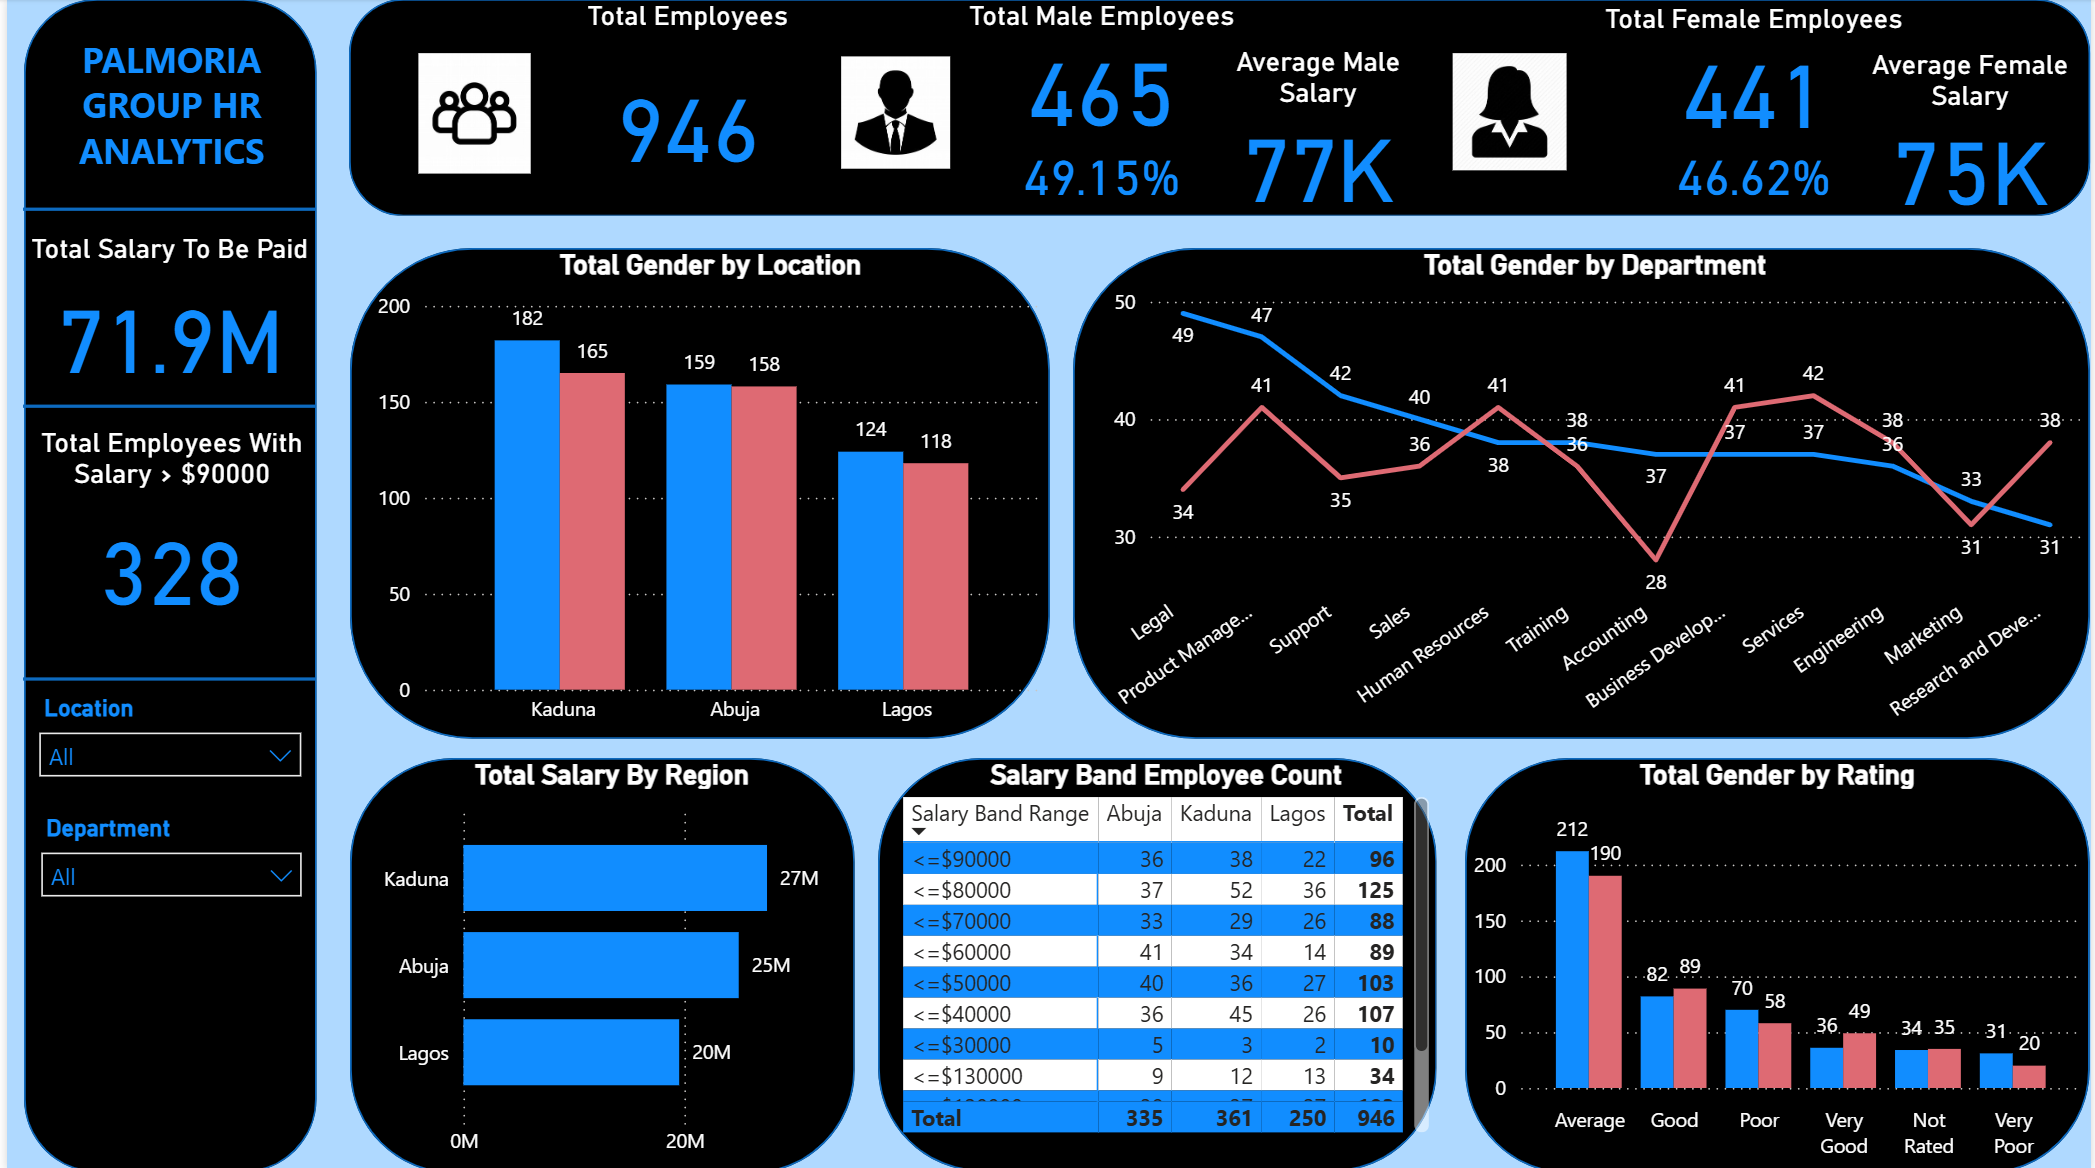

What the dashboard file says about the page in this screenshot:
{"tool":"powerbi","page":{"name":"Page 1","canvas":[1280,720],"ordinal":0},"visuals":[{"type":"shape","box":[10.7,0,179.8,720.8],"z":0},{"type":"shape","box":[210,0,1069.7,133.5],"z":1000},{"type":"shape","box":[210.6,152.9,429.9,301.5],"z":2000},{"type":"shape","box":[655,152.9,624.7,301.5],"z":3000},{"type":"shape","box":[210.6,466,310.2,255.4],"z":4000},{"type":"shape","box":[896,466,383.8,255.4],"z":5000},{"type":"shape","box":[535.3,466,343.4,253.9],"z":6000},{"type":"card","title":"Total Employees","fields":{"Values":["Palmoria Group emp-data.Total employees"]},"box":[329.3,0,178,129.9],"z":7000},{"type":"card","title":"Total Male Employees","fields":{"Values":["Palmoria Group emp-data.Total Males"]},"box":[583.8,0,178,85.4],"z":8000},{"type":"card","title":"Total Male Employees","fields":{"Values":["Palmoria Group emp-data.%Male"]},"box":[583.8,83.6,178,48.1],"z":9000},{"type":"card","title":"Total Female Employees","fields":{"Values":["Palmoria Group emp-data.Total Females"]},"box":[968.2,1.8,210,83.6],"z":10000},{"type":"card","title":"Total Male Employees","fields":{"Values":["Palmoria Group emp-data.%Female"]},"box":[968.2,83.6,210,48.1],"z":11000},{"type":"image","box":[245.6,28.5,83.6,83.6],"z":12000},{"type":"image","box":[507.2,28.5,76.5,83.6],"z":13000},{"type":"image","box":[879.2,28.5,89,81.9],"z":14000},{"type":"card","title":"Average Male Salary","fields":{"Values":["Palmoria Group emp-data.Average male salary"]},"box":[731.5,28.5,147.7,103.2],"z":15000},{"type":"card","title":"Average Female Salary","fields":{"Values":["Palmoria Group emp-data.Average Female salary"]},"box":[1131.9,30.3,147.7,103.2],"z":16000},{"type":"lineChart","title":"Total Gender by Department","fields":{"Category":["Palmoria Group emp-data.Department"],"Y":["Palmoria Group emp-data.Total Males","Palmoria Group emp-data.Total Females"]},"box":[672.3,152.9,607.4,301.5],"z":17000},{"type":"clusteredColumnChart","title":"Total Gender by Location","fields":{"Category":["Palmoria Group emp-data.Location"],"Y":["Palmoria Group emp-data.Total Males","Palmoria Group emp-data.Total Females"]},"box":[222.2,152.9,419.8,301.5],"z":18000},{"type":"clusteredColumnChart","title":"Total Gender by Rating","fields":{"Category":["Palmoria Group emp-data.Rating"],"Y":["Palmoria Group emp-data.Total Males","Palmoria Group emp-data.Total Females"]},"box":[896,466,383.8,253.9],"z":19000},{"type":"pivotTable","title":"Salary Band Employee Count","fields":{"Rows":["Palmoria Group emp-data.Salary Band Range"],"Values":["Palmoria Group emp-data.Total employees"],"Columns":["Palmoria Group emp-data.Location"]},"box":[545.4,466,333.3,235.2],"z":20000},{"type":"clusteredBarChart","title":"Total Salary By Region","fields":{"Category":["Palmoria Group emp-data.Location"],"Y":["Sum(Palmoria Group emp-data.Total salary)"]},"box":[222.2,466,298.7,253.9],"z":21000},{"type":"card","title":"Total Salary To Be Paid","fields":{"Values":["Sum(Palmoria Group emp-data.Total salary)"]},"box":[10.1,142.8,180.3,102.4],"z":22000},{"type":"textbox","box":[11.5,17.3,178.9,106.8],"z":23000},{"type":"shape","box":[10.1,124.1,180.3,10.1],"z":24000},{"type":"shape","box":[10.1,245.3,180.3,10.1],"z":25000},{"type":"slicer","fields":{"Values":["Palmoria Group emp-data.Department"]},"box":[11.1,496.4,180,63.9],"z":26000},{"type":"slicer","fields":{"Values":["Palmoria Group emp-data.Location"]},"box":[9.8,422.7,180.6,63.3],"z":27000},{"type":"card","title":"Total Employees With Salary > $90000","fields":{"Values":["Palmoria Group emp-data.Salary >90000"]},"box":[12.3,262.3,178.2,130.2],"z":27001},{"type":"shape","box":[9.8,412.8,180,9.8],"z":27002}]}

Visuals, with their boxes in screenshot pixels (x1, y1, x2, y2), scaled from the page's 1280x720 canvas onto the 2095x1168 screenshot:
shape: {"x1": 18, "y1": 0, "x2": 312, "y2": 1167}
shape: {"x1": 344, "y1": 0, "x2": 2094, "y2": 217}
shape: {"x1": 345, "y1": 248, "x2": 1048, "y2": 737}
shape: {"x1": 1072, "y1": 248, "x2": 2094, "y2": 737}
shape: {"x1": 345, "y1": 756, "x2": 852, "y2": 1167}
shape: {"x1": 1466, "y1": 756, "x2": 2094, "y2": 1167}
shape: {"x1": 876, "y1": 756, "x2": 1438, "y2": 1167}
"Total Employees" card: {"x1": 539, "y1": 0, "x2": 830, "y2": 211}
"Total Male Employees" card: {"x1": 956, "y1": 0, "x2": 1247, "y2": 139}
"Total Male Employees" card: {"x1": 956, "y1": 136, "x2": 1247, "y2": 214}
"Total Female Employees" card: {"x1": 1585, "y1": 3, "x2": 1928, "y2": 139}
"Total Male Employees" card: {"x1": 1585, "y1": 136, "x2": 1928, "y2": 214}
image: {"x1": 402, "y1": 46, "x2": 539, "y2": 182}
image: {"x1": 830, "y1": 46, "x2": 955, "y2": 182}
image: {"x1": 1439, "y1": 46, "x2": 1585, "y2": 179}
"Average Male Salary" card: {"x1": 1197, "y1": 46, "x2": 1439, "y2": 214}
"Average Female Salary" card: {"x1": 1853, "y1": 49, "x2": 2094, "y2": 217}
"Total Gender by Department" lineChart: {"x1": 1100, "y1": 248, "x2": 2094, "y2": 737}
"Total Gender by Location" clusteredColumnChart: {"x1": 364, "y1": 248, "x2": 1051, "y2": 737}
"Total Gender by Rating" clusteredColumnChart: {"x1": 1466, "y1": 756, "x2": 2094, "y2": 1167}
"Salary Band Employee Count" pivotTable: {"x1": 893, "y1": 756, "x2": 1438, "y2": 1138}
"Total Salary By Region" clusteredBarChart: {"x1": 364, "y1": 756, "x2": 853, "y2": 1167}
"Total Salary To Be Paid" card: {"x1": 17, "y1": 232, "x2": 312, "y2": 398}
textbox: {"x1": 19, "y1": 28, "x2": 312, "y2": 201}
shape: {"x1": 17, "y1": 201, "x2": 312, "y2": 218}
shape: {"x1": 17, "y1": 398, "x2": 312, "y2": 414}
slicer - Palmoria Group emp-data.Department: {"x1": 18, "y1": 805, "x2": 313, "y2": 909}
slicer - Palmoria Group emp-data.Location: {"x1": 16, "y1": 686, "x2": 312, "y2": 788}
"Total Employees With Salary > $90000" card: {"x1": 20, "y1": 426, "x2": 312, "y2": 637}
shape: {"x1": 16, "y1": 670, "x2": 311, "y2": 686}
